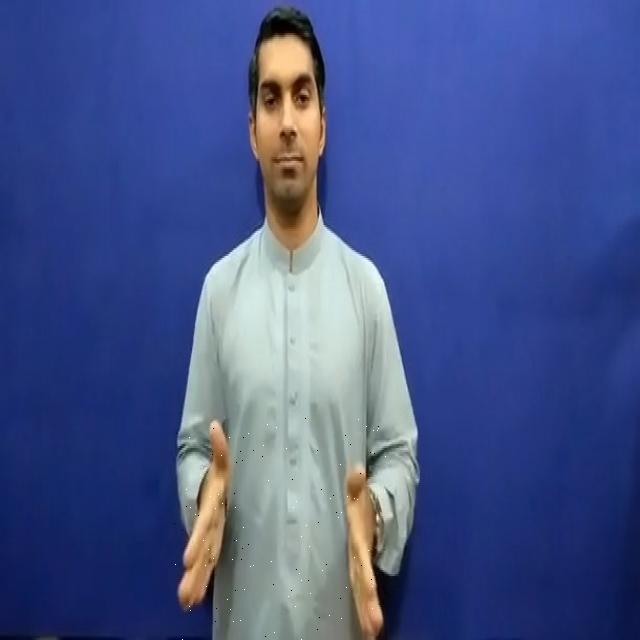manager: (174, 414, 388, 640)
